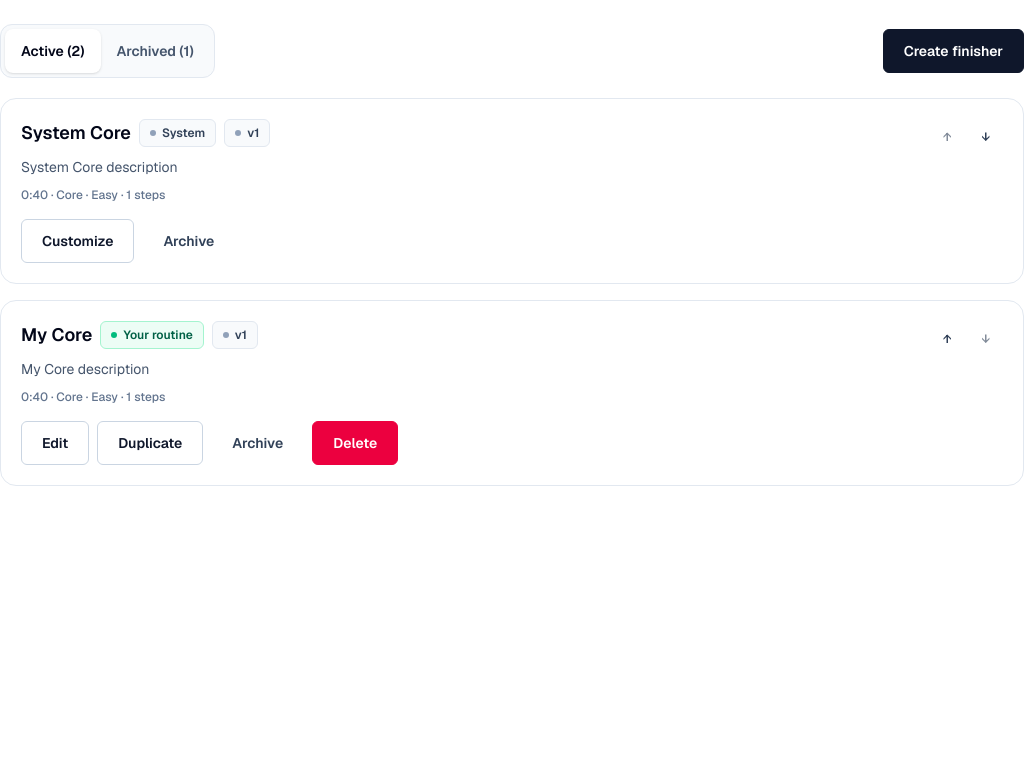
Test: FinisherLibraryClient › submits the complete ordered ID/revision set when reordering
Click the button named "Move My Core up": click(947, 339) [930,321,964,357]
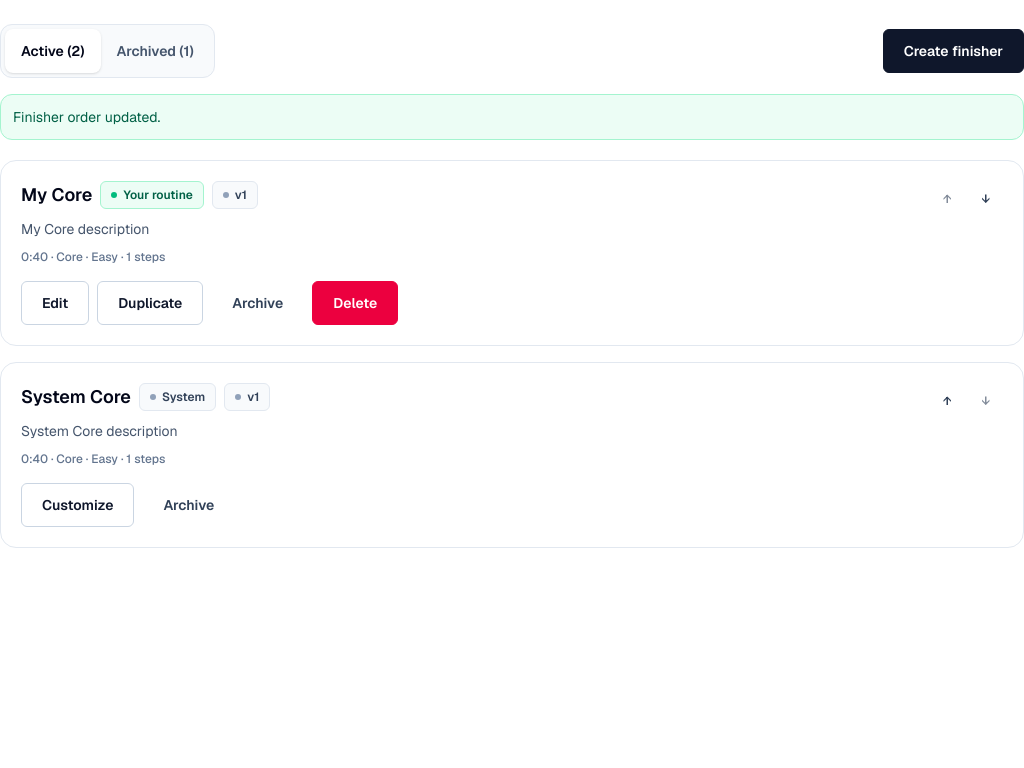
Result: the text "Finisher order updated." is shown at [0,94,1023,140]
